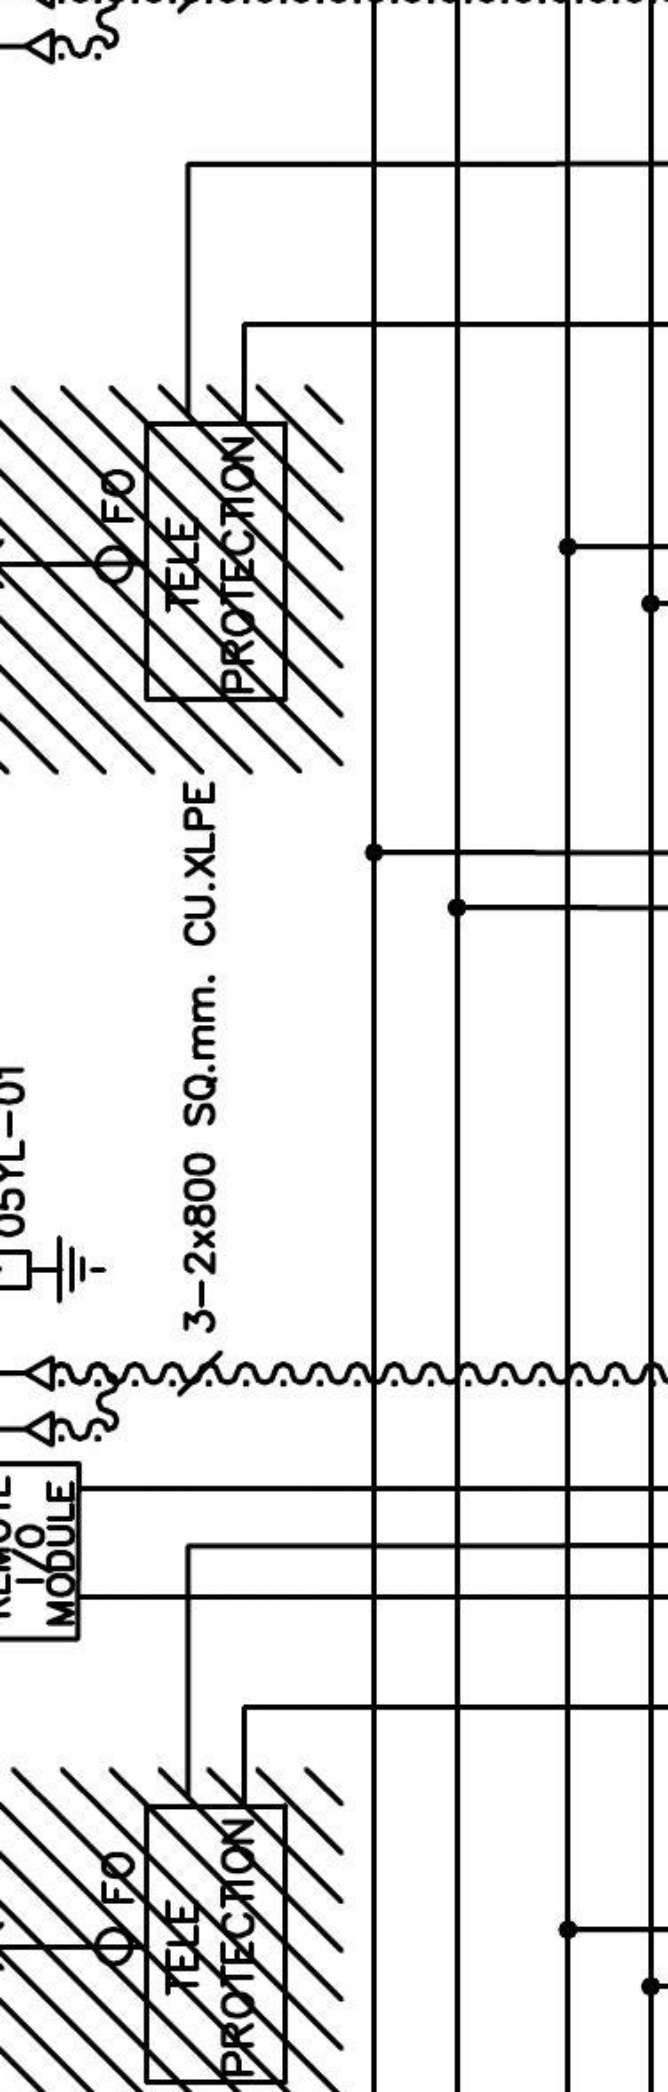tele_protection: (139, 416, 293, 707), (140, 1800, 293, 2091)
